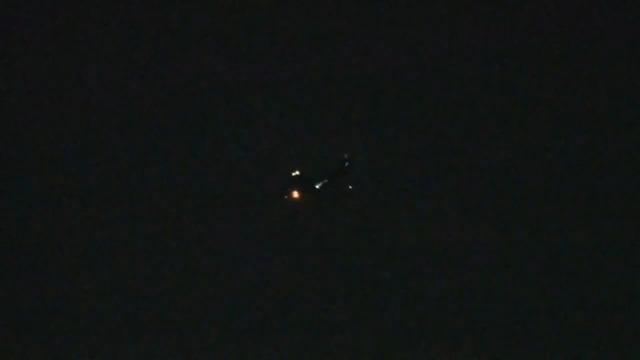Plane: (277, 152, 375, 213)
